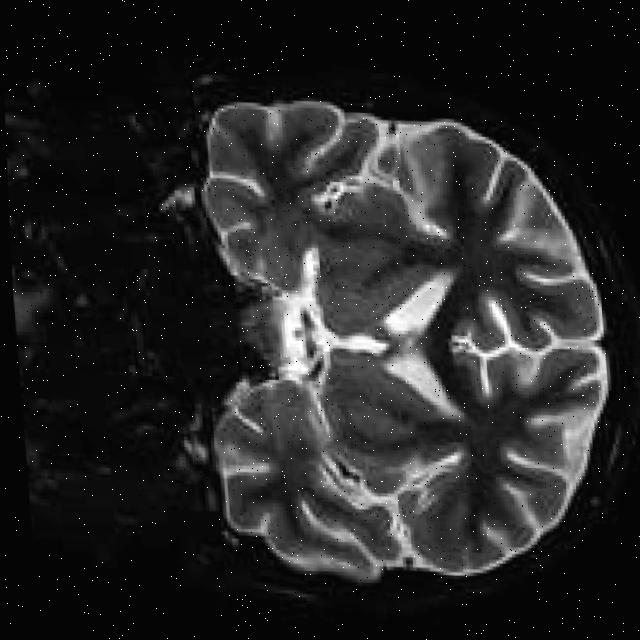NoTumor: (184, 79, 627, 605)
